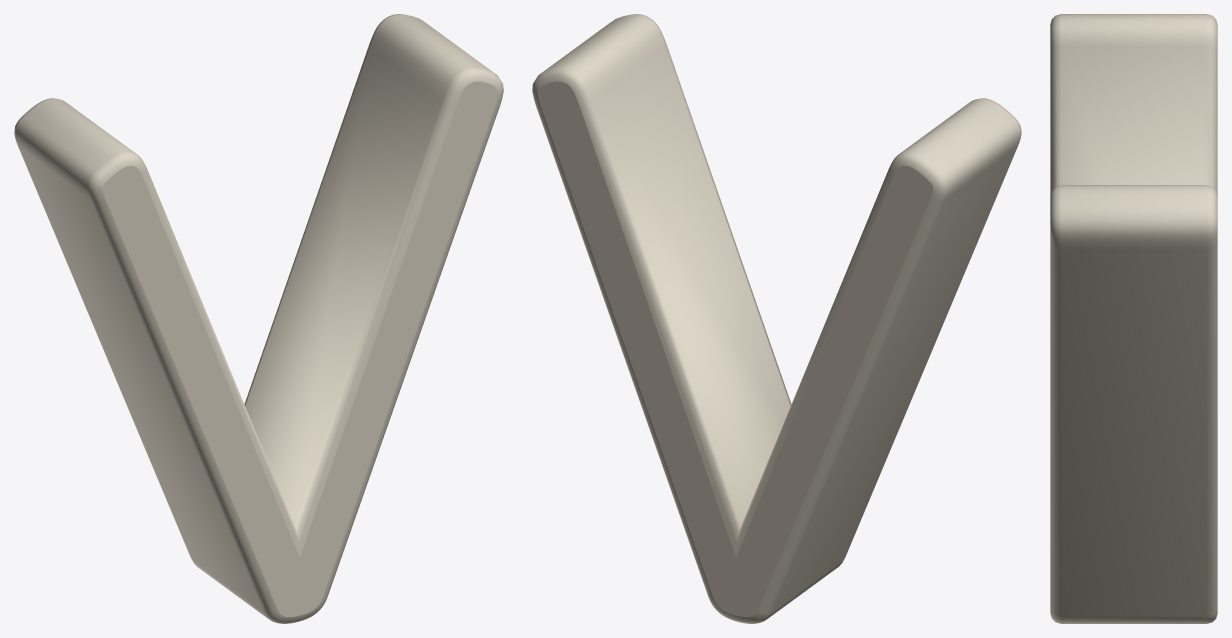
The model's file is letter_v.glb.
3 views of the same model, side by side, from view 1: azimuth 30°, elevation 25°; view 2: azimuth 150°, elevation 25°; view 3: azimuth 270°, elevation 25° (orthographic).
Parts seen in each view (by area): view 1: color_body; view 2: color_body; view 3: color_body.
Boxes of the visible parts, x1,y1,x2,y2 form: color_body: [14, 14, 503, 623]; color_body: [532, 14, 1021, 623]; color_body: [1050, 14, 1217, 623].
Bounding box in the file's own units: 0.6985 × 0.8233 × 0.242.
